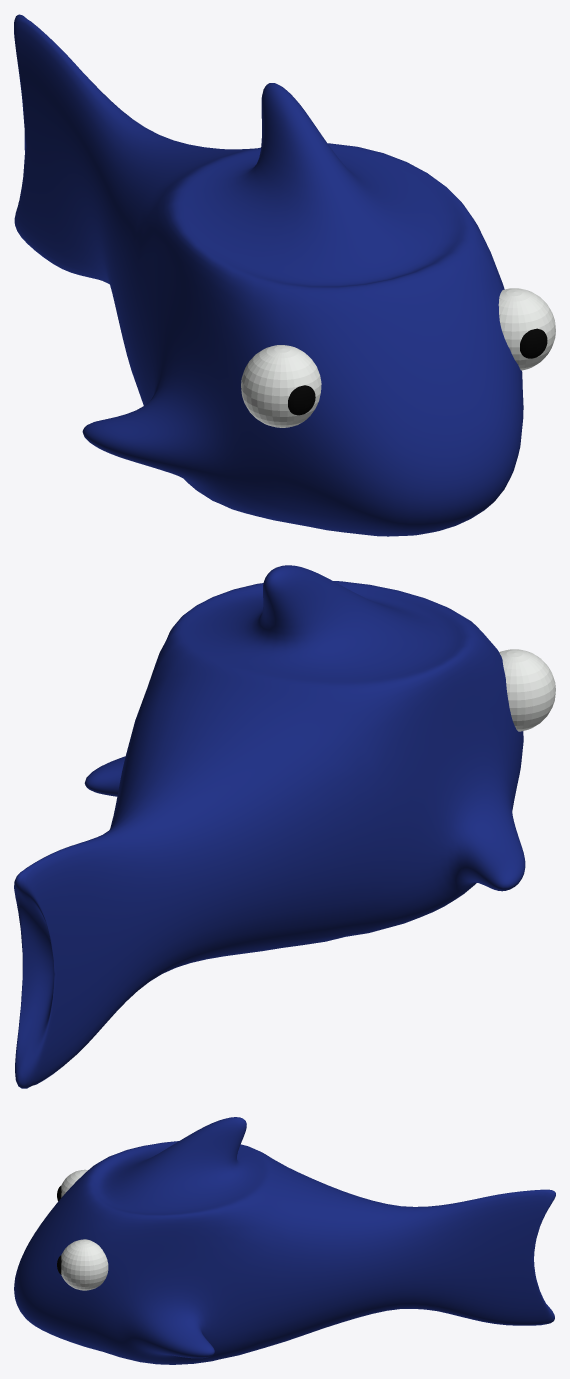
The model's file is fish.glb.
The picture shows the model from 3 angles, top to bottom: view 1: azimuth 30°, elevation 25°; view 2: azimuth 150°, elevation 25°; view 3: azimuth 270°, elevation 25°; orthographic projection. The views are drawn at different scales.
Visible parts, largest first — view 1: Cube, Sphere.002, Sphere, Sphere.003, Sphere.001; view 2: Cube, Sphere.002; view 3: Cube, Sphere.
Boxes of the visible parts, left/top/right/bottom form: Cube: left=14, top=14, right=523, bottom=536; Sphere.002: left=241, top=345, right=321, bottom=427; Sphere: left=498, top=288, right=555, bottom=370; Sphere.003: left=288, top=385, right=315, bottom=415; Sphere.001: left=520, top=328, right=547, bottom=358; Cube: left=14, top=565, right=525, bottom=1088; Sphere.002: left=499, top=649, right=555, bottom=731; Cube: left=14, top=1117, right=555, bottom=1364; Sphere: left=61, top=1239, right=108, bottom=1290.
Bounding box in the file's own units: 3.14 × 2.54 × 5.57.
